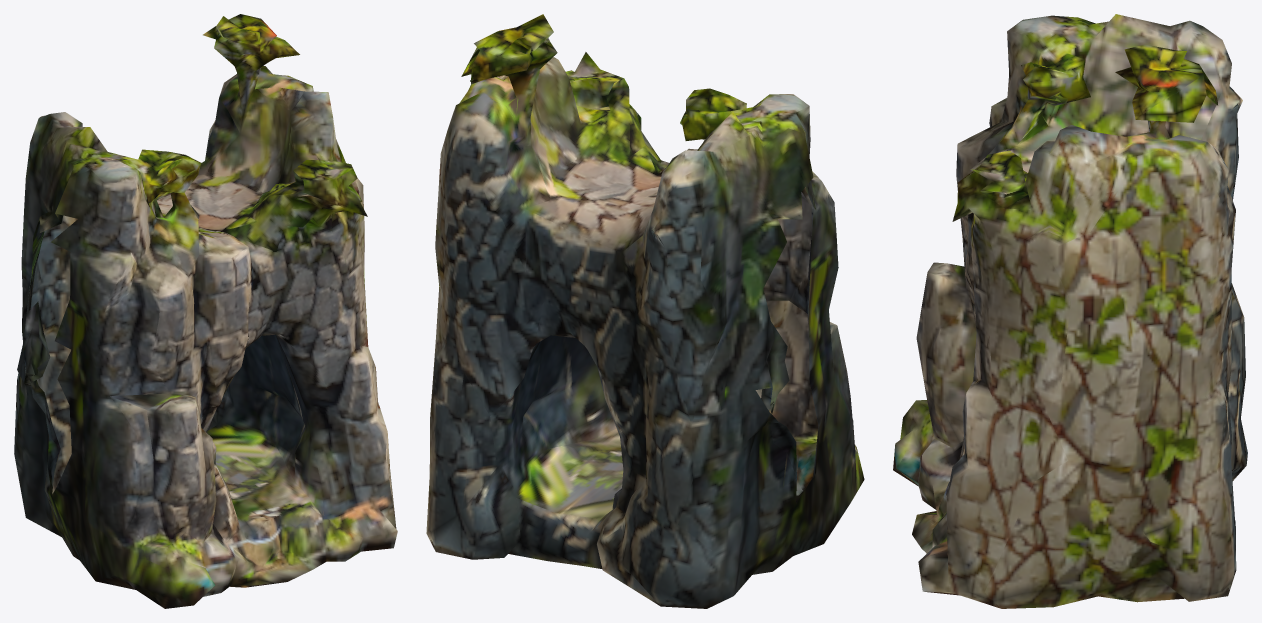
Rendered from CoastalCliff_Wall.fbx.
3 renders of one model, left to right at view 1: azimuth 30°, elevation 25°; view 2: azimuth 150°, elevation 25°; view 3: azimuth 270°, elevation 25°, orthographic. The views are drawn at different scales.
Parts seen in each view (by area): view 1: CoastalCliff_Wall_Mesh; view 2: CoastalCliff_Wall_Mesh; view 3: CoastalCliff_Wall_Mesh.
Part boxes in pixels (left/top/right/bottom): CoastalCliff_Wall_Mesh: left=14, top=14, right=397, bottom=608; CoastalCliff_Wall_Mesh: left=426, top=14, right=864, bottom=608; CoastalCliff_Wall_Mesh: left=893, top=14, right=1247, bottom=608.
Size of the model in its own units: 6 by 8.88 by 5.35.
Materials: 1 (1 with a texture image).
